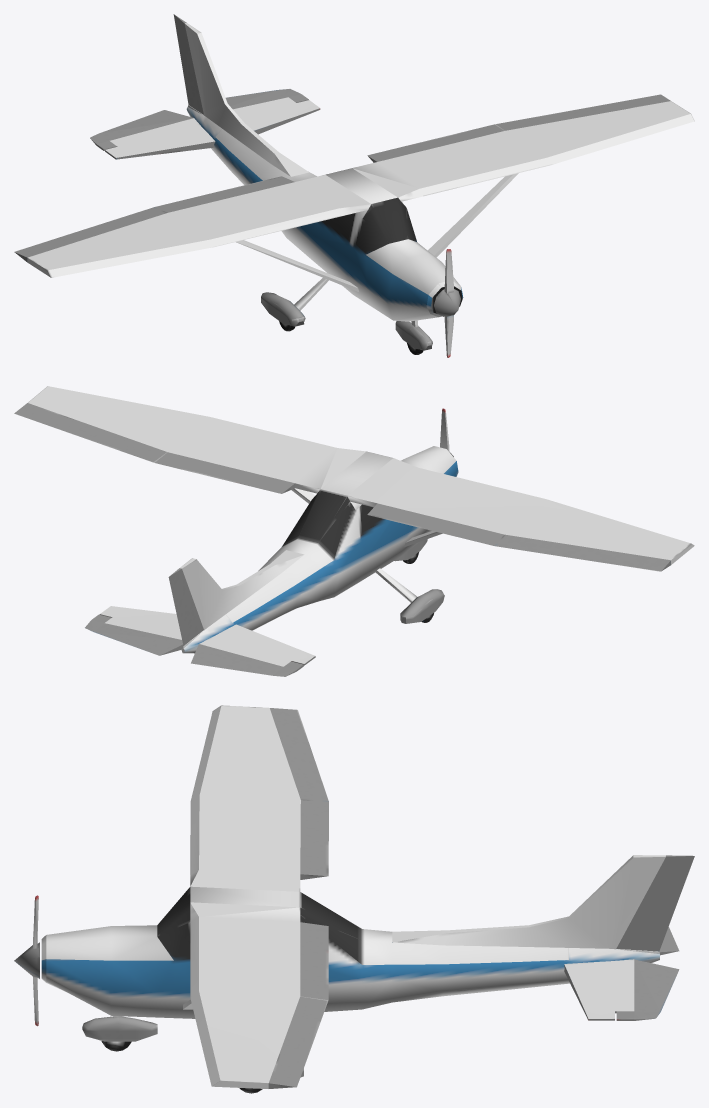
The picture shows the model from 3 angles, top to bottom: view 1: azimuth 30°, elevation 25°; view 2: azimuth 150°, elevation 25°; view 3: azimuth 270°, elevation 25°; orthographic projection. The views are drawn at different scales.
Parts seen in each view (by area): view 1: Body_Mesh.011, Stabilizer_Mesh.005, Elevator_Mesh, RightAileron_Mesh.004, LeftAileron_Mesh.003, LeftFlap_Mesh.010, RightFlap_Mesh.006, Propeller_Mesh.001, Rudder_Mesh.002; view 2: Body_Mesh.011, Stabilizer_Mesh.005, Elevator_Mesh, RightAileron_Mesh.004, LeftAileron_Mesh.003, LeftFlap_Mesh.010, RightFlap_Mesh.006, Rudder_Mesh.002; view 3: Body_Mesh.011, Rudder_Mesh.002, Stabilizer_Mesh.005, LeftAileron_Mesh.003, RightAileron_Mesh.004, Elevator_Mesh, RightFlap_Mesh.006, LeftFlap_Mesh.010, Propeller_Mesh.001.
Part boxes in pixels (x1,y1,x2,y2): Body_Mesh.011: (27,23,694,350); Stabilizer_Mesh.005: (105,97,320,159); Elevator_Mesh: (90,89,308,150); RightAileron_Mesh.004: (14,207,167,261); LeftAileron_Mesh.003: (495,94,670,130); LeftFlap_Mesh.010: (367,124,503,162); RightFlap_Mesh.006: (155,176,294,212); Propeller_Mesh.001: (434,249,460,357); Rudder_Mesh.002: (173,14,203,114); Body_Mesh.011: (28,386,694,653); Stabilizer_Mesh.005: (99,606,315,666); Elevator_Mesh: (85,614,303,676); RightAileron_Mesh.004: (494,534,670,571); LeftAileron_Mesh.003: (14,403,167,462); LeftFlap_Mesh.010: (155,452,294,493); RightFlap_Mesh.006: (367,503,503,545); Rudder_Mesh.002: (168,568,203,645); Body_Mesh.011: (41,705,665,1088); Rudder_Mesh.002: (616,855,694,951); Stabilizer_Mesh.005: (564,959,634,1020); LeftAileron_Mesh.003: (268,996,328,1088); RightAileron_Mesh.004: (270,708,328,801); Elevator_Mesh: (616,927,679,1020); RightFlap_Mesh.006: (300,800,328,879); LeftFlap_Mesh.010: (300,922,328,1000); Propeller_Mesh.001: (14,895,39,1026).
Bounding box in the file's own units: 11.02 × 2.65 × 8.4.
